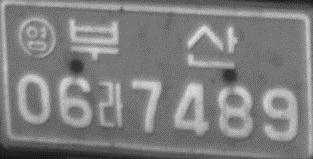0: (15, 72, 51, 126)
4: (173, 82, 209, 136)
6: (58, 75, 92, 128)
7: (130, 78, 163, 132)
8: (216, 85, 254, 138)
9: (261, 87, 299, 142)
라: (96, 79, 125, 130)
부산_D: (67, 17, 238, 68)
영: (17, 15, 56, 58)
